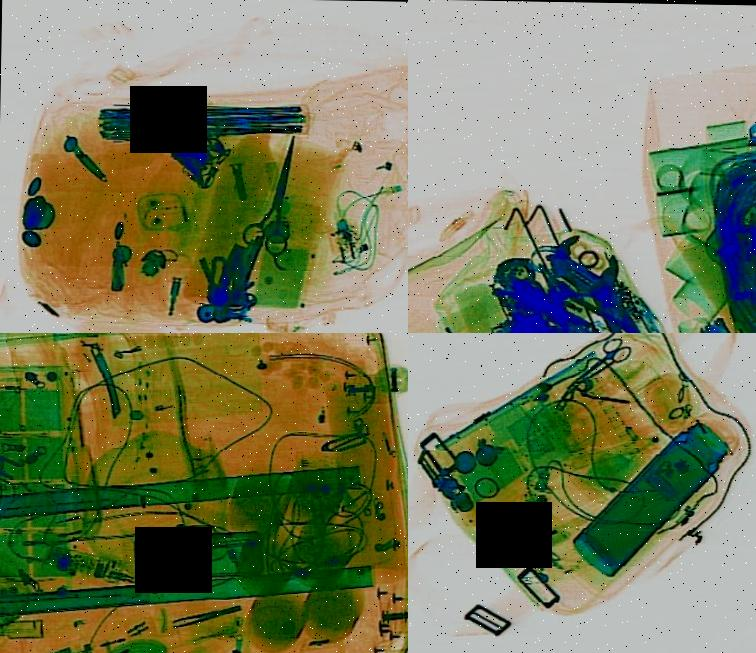Pliers: (521, 263, 634, 333)
Scissors: (237, 130, 314, 254), (559, 333, 633, 396)
Wrench: (533, 223, 727, 333)
